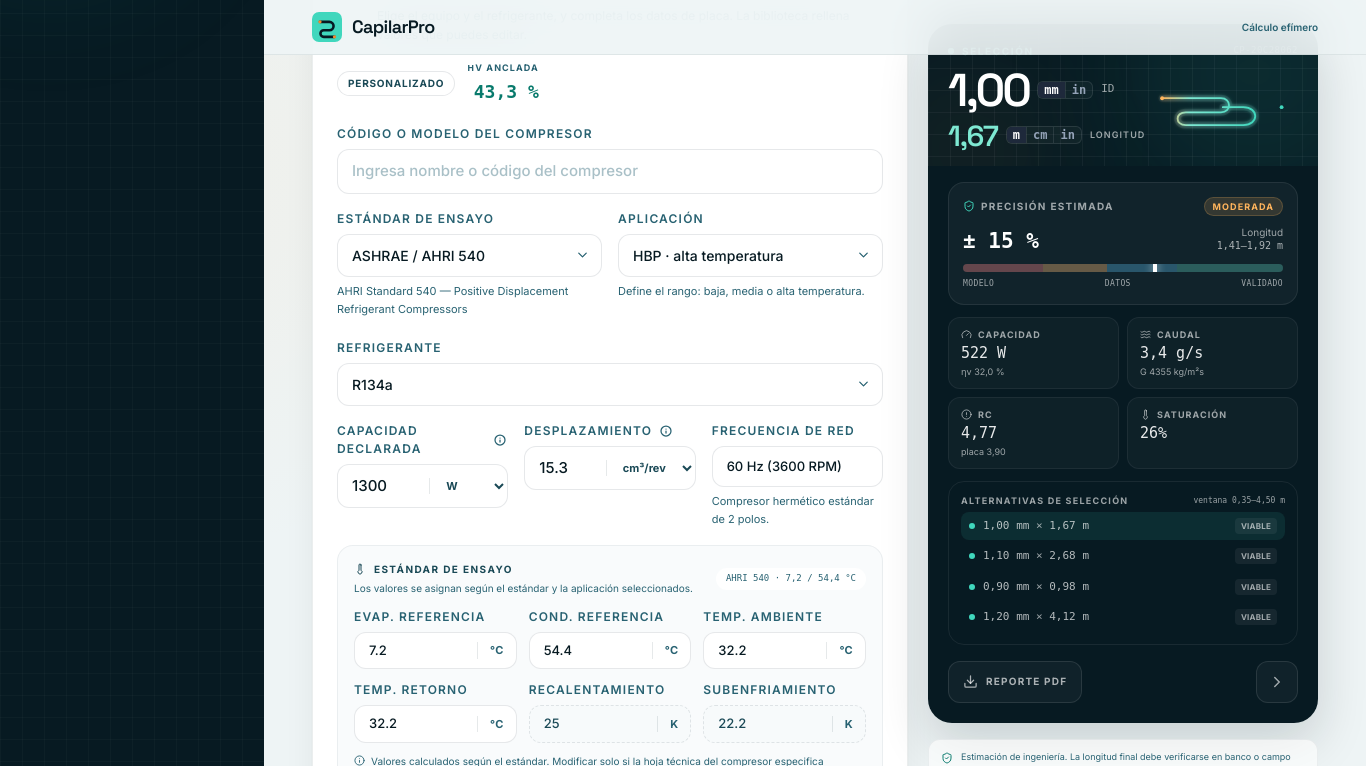
Test: CapilarPro › muestra solo los nombres de refrigerantes y advierte para mezclas zeotrópicas
(page scrolled)
Select "R407C" in the dropdown labelled "Refrigerante" at (610,384), box [337,363,883,406]
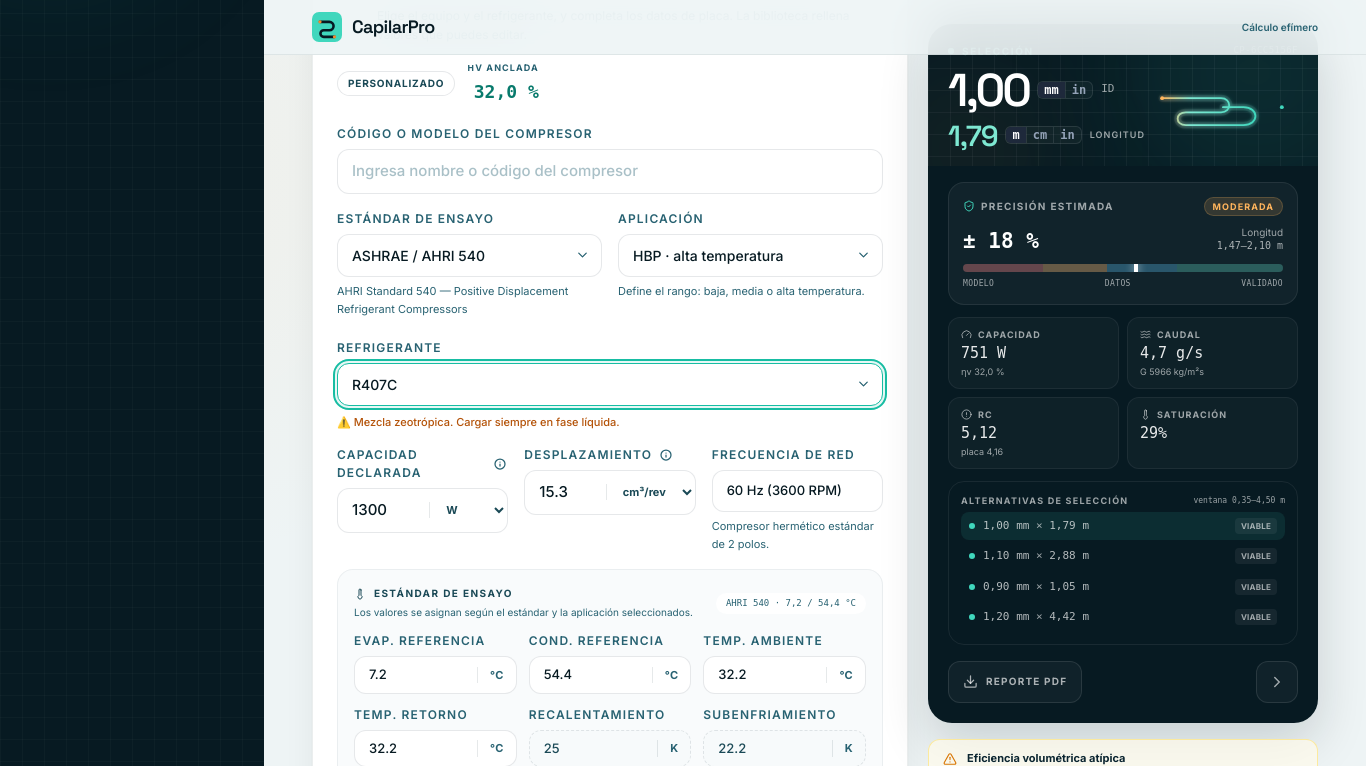
Now the text "⚠️ Mezcla zeotrópica. Cargar siempre en fase líquida." is shown, box [337,415,620,429]
